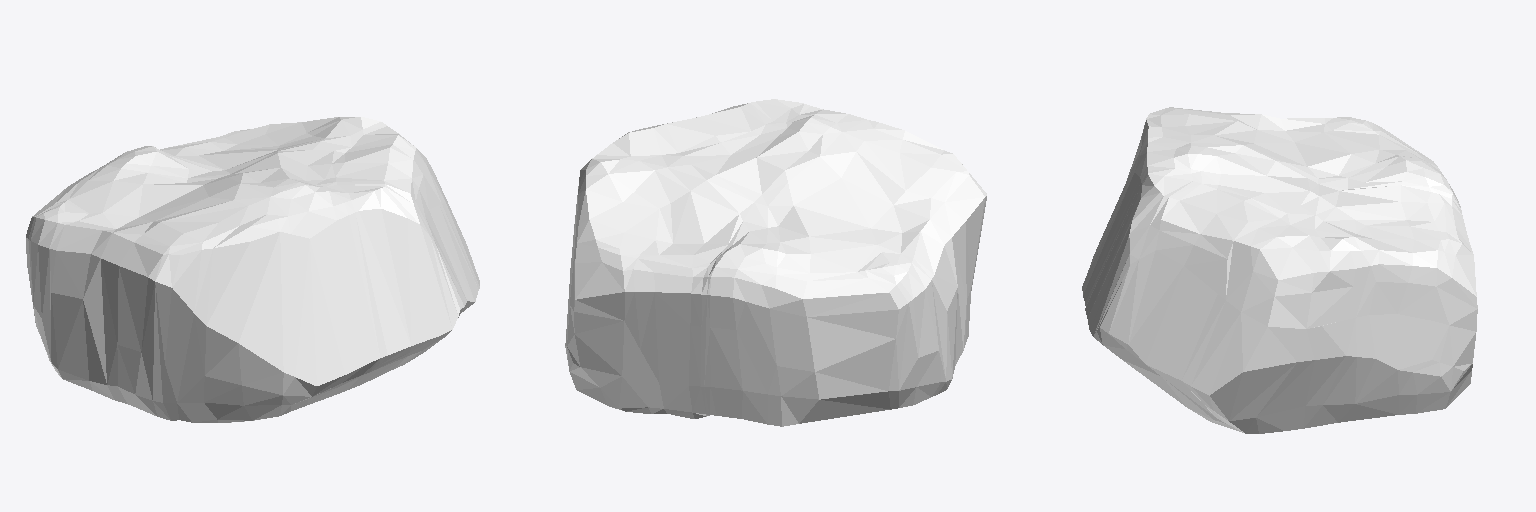
Rendered from rock4.obj.
3 views of the same model, side by side, from view 1: azimuth 30°, elevation 25°; view 2: azimuth 150°, elevation 25°; view 3: azimuth 270°, elevation 25° (orthographic).
Parts seen in each view (by area): view 1: rock4; view 2: rock4; view 3: rock4.
Part boxes in pixels (bbox=[...]): rock4: bbox=[26, 117, 479, 422]; rock4: bbox=[565, 99, 986, 426]; rock4: bbox=[1082, 107, 1477, 433].
Bounding box in the file's own units: 11.43 × 5.89 × 10.17.